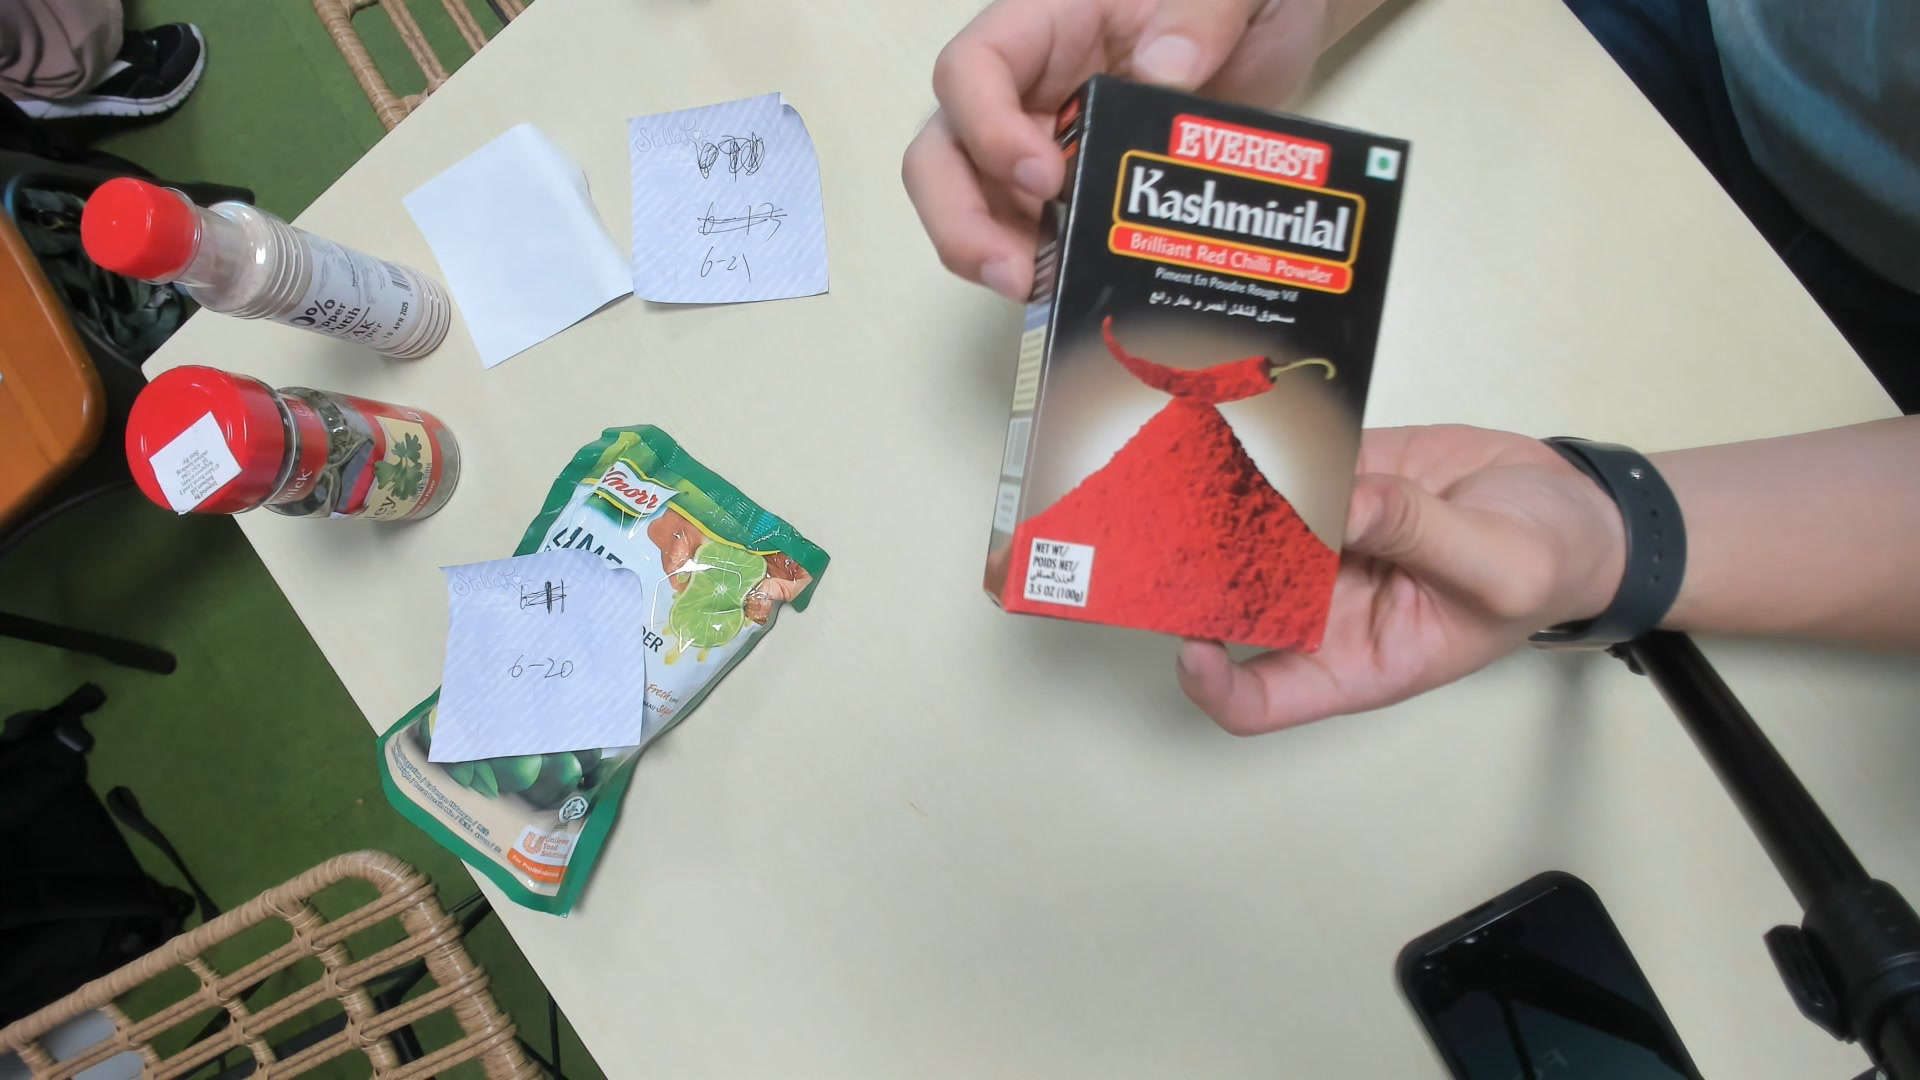HerbsSpicesPepper_100-199g_NonHalal_NonHealthy: (981, 80, 1410, 662)
